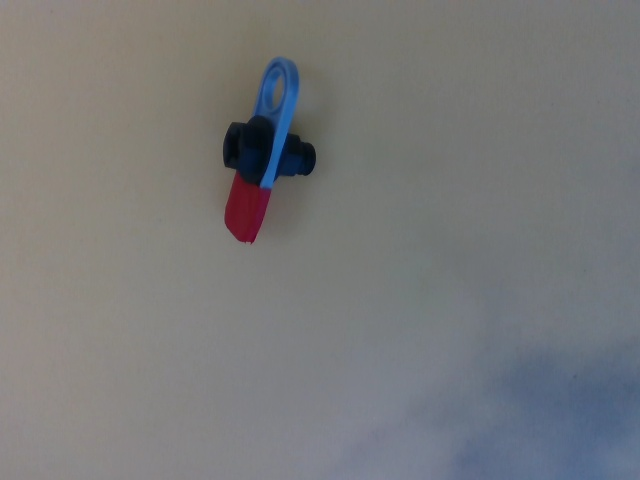part_1_good: (220, 54, 320, 248)
